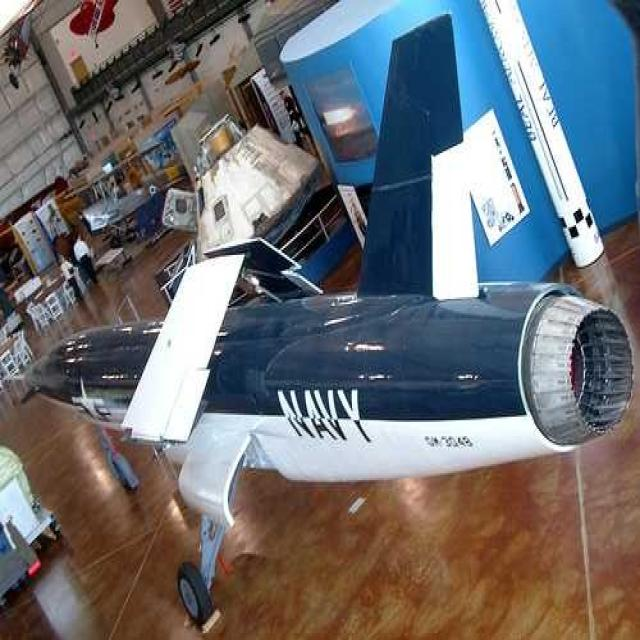missile: (26, 15, 633, 615)
